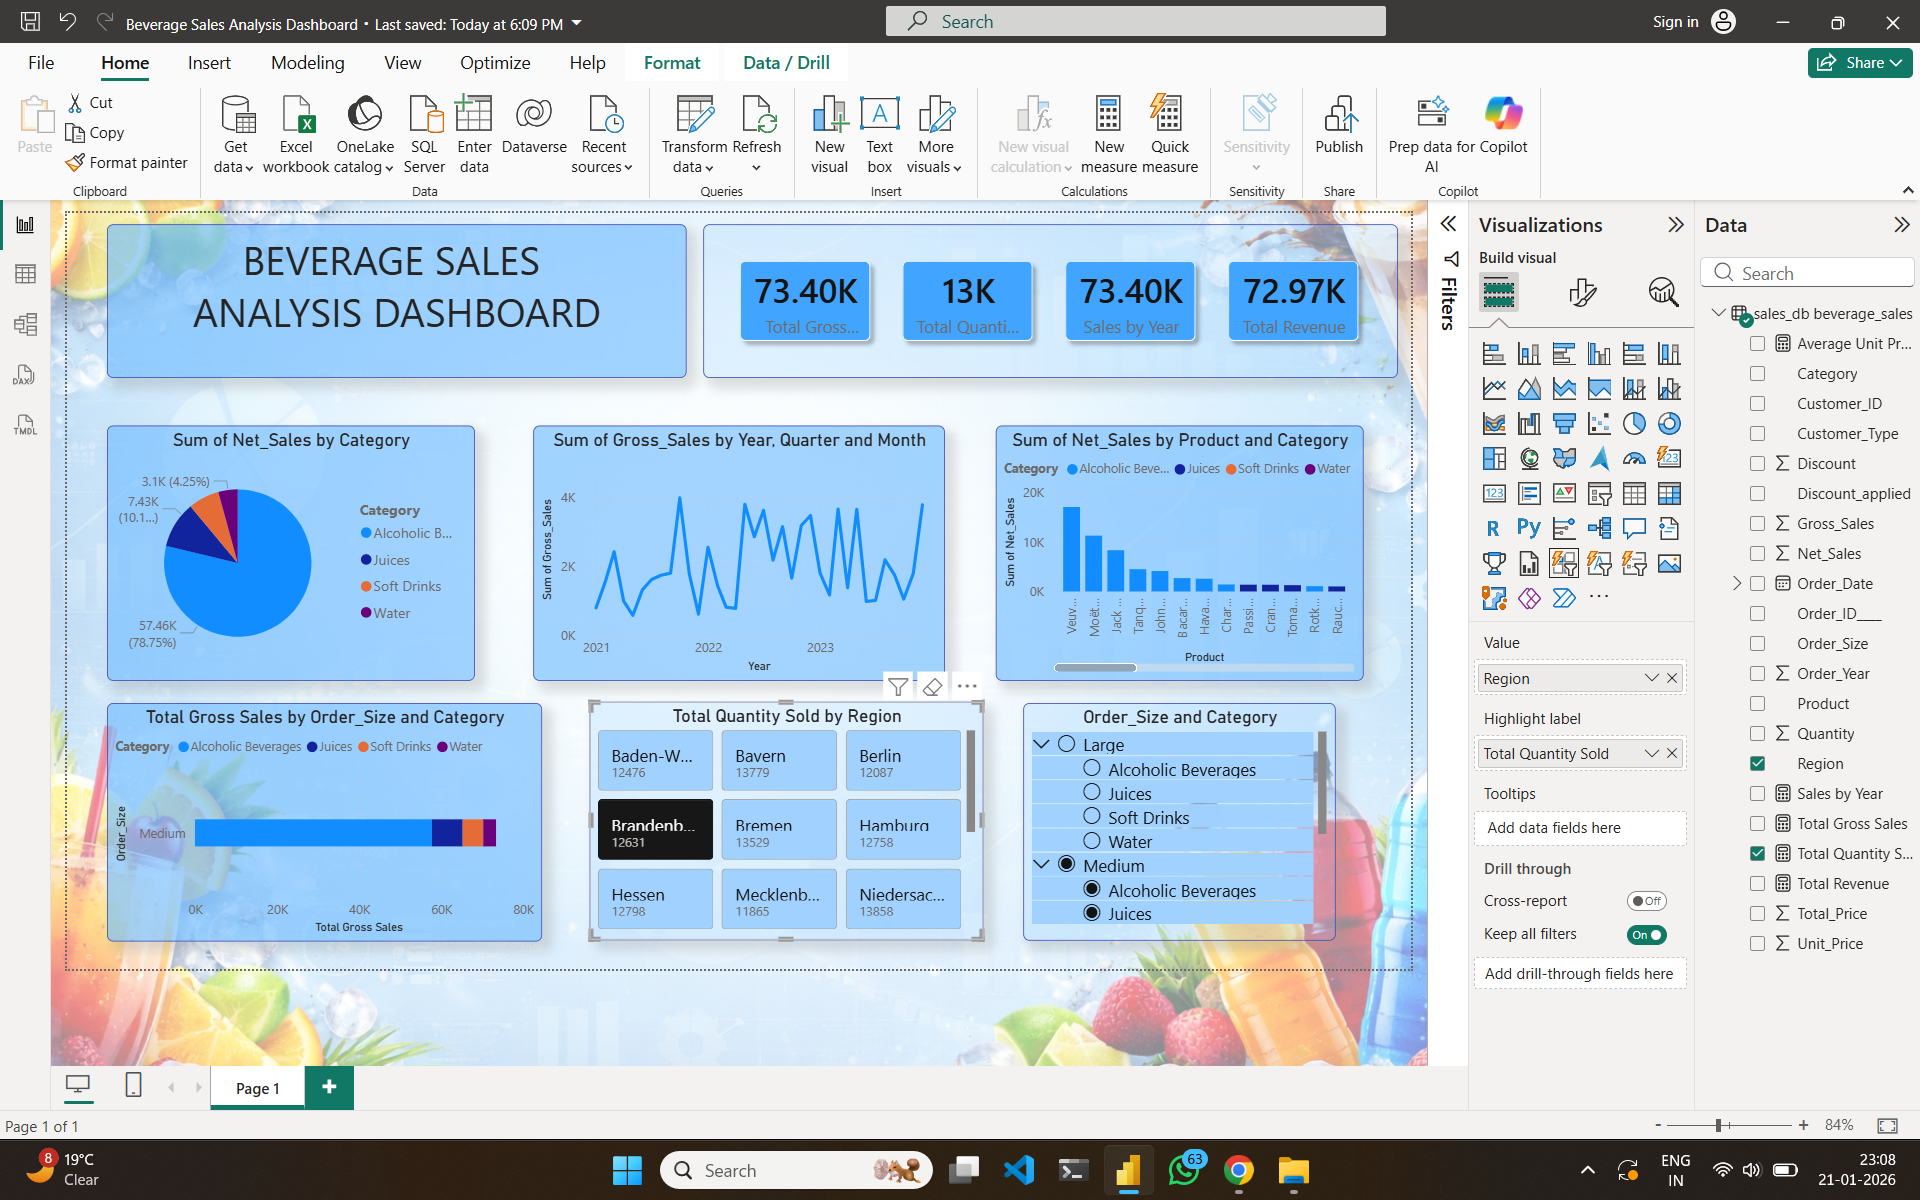

This screenshot's page, from the dashboard's own definition file:
{"tool":"powerbi","page":{"name":"Page 1","canvas":[1280,720],"ordinal":0},"visuals":[{"type":"cardVisual","fields":{"Data":["sales_db beverage_sales.Total Gross Sales","sales_db beverage_sales.Total Quantity Sold","sales_db beverage_sales.Sales by Year","sales_db beverage_sales.Total Revenue"]},"box":[605.8,10.5,661.6,146.5],"z":0},{"type":"pieChart","fields":{"Y":["Sum(sales_db beverage_sales.Net_Sales)"],"Category":["sales_db beverage_sales.Category"]},"box":[38.1,202.4,350,242.9],"z":1000},{"type":"lineChart","fields":{"Y":["Sum(sales_db beverage_sales.Gross_Sales)"],"Category":["sales_db beverage_sales.Order_Date.Variation.Date Hierarchy.Year","sales_db beverage_sales.Order_Date.Variation.Date Hierarchy.Quarter","sales_db beverage_sales.Order_Date.Variation.Date Hierarchy.Month","sales_db beverage_sales.Order_Date.Variation.Date Hierarchy.Day"]},"box":[444,202.4,391.7,242.9],"z":2000},{"type":"columnChart","fields":{"Y":["Sum(sales_db beverage_sales.Net_Sales)"],"Category":["sales_db beverage_sales.Product"],"Series":["sales_db beverage_sales.Category"]},"box":[884.5,202.4,350,242.9],"z":3000},{"type":"barChart","fields":{"Y":["sales_db beverage_sales.Total Gross Sales"],"Category":["sales_db beverage_sales.Order_Size"],"Series":["sales_db beverage_sales.Category"]},"box":[38.1,466.7,414.3,227.4],"z":4000},{"type":"advancedSlicerVisual","fields":{"Values":["sales_db beverage_sales.Region"],"Label":["sales_db beverage_sales.Total Quantity Sold"]},"box":[497.6,465.5,375,227.4],"z":6000},{"type":"listSlicer","fields":{"Values":["sales_db beverage_sales.Order_Size","sales_db beverage_sales.Category"]},"box":[910.7,466.7,297.6,226.2],"z":7000},{"type":"textbox","box":[38.1,10.7,552.4,146.4],"z":7001}]}

Visuals, with their boxes on the page's 1280x720 design canvas (x1, y1, x2, y2). These are canvas units, not pixel positions in the 1920x1200 screenshot, which may show the page scaled, cropped or inside an application window:
cardVisual - sales_db beverage_sales.Total Gross Sales x sales_db beverage_sales.Total Quantity Sold: 606,10,1267,157
pieChart - Sum(sales_db beverage_sales.Net_Sales) x sales_db beverage_sales.Category: 38,202,388,445
lineChart - Sum(sales_db beverage_sales.Gross_Sales) x sales_db beverage_sales.Order_Date.Variation.Date Hierarchy.Year: 444,202,836,445
columnChart - Sum(sales_db beverage_sales.Net_Sales) x sales_db beverage_sales.Product: 884,202,1234,445
barChart - sales_db beverage_sales.Total Gross Sales x sales_db beverage_sales.Order_Size: 38,467,452,694
advancedSlicerVisual - sales_db beverage_sales.Region x sales_db beverage_sales.Total Quantity Sold: 498,466,873,693
listSlicer - sales_db beverage_sales.Order_Size x sales_db beverage_sales.Category: 911,467,1208,693
textbox: 38,11,590,157
